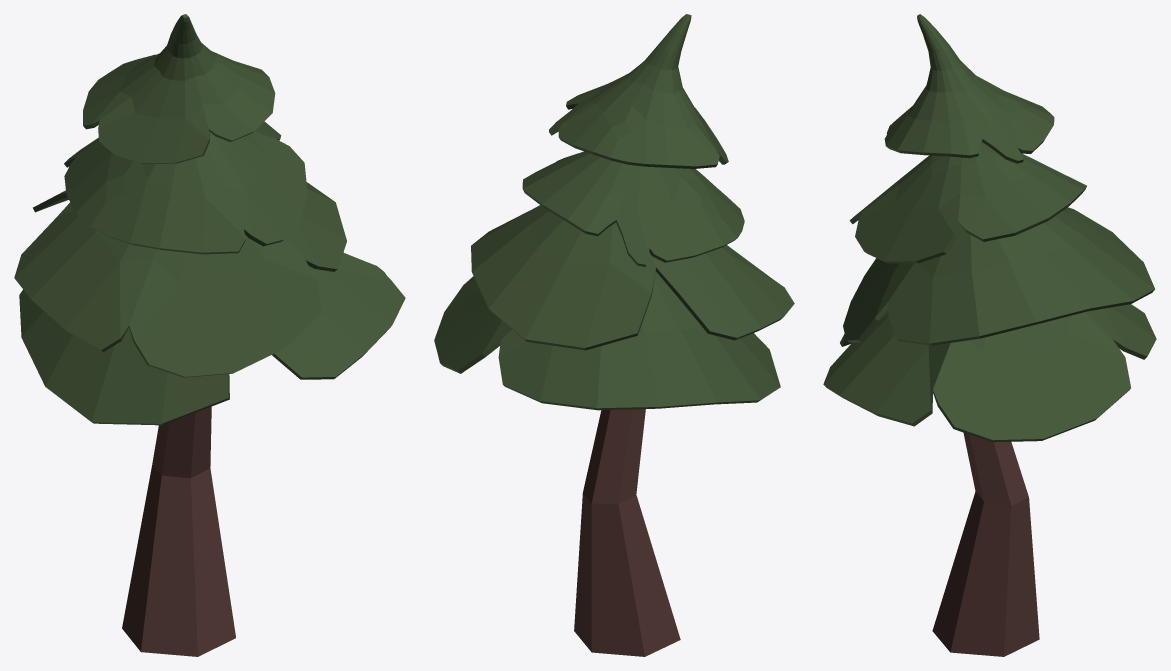
Rendered from pine_5.glb.
The picture shows the model from 3 angles, left to right: view 1: azimuth 30°, elevation 25°; view 2: azimuth 150°, elevation 25°; view 3: azimuth 270°, elevation 25°; orthographic projection. The views are drawn at different scales.
Parts seen in each view (by area): view 1: pine_5; view 2: pine_5; view 3: pine_5.
Part boxes in pixels (x1=…): pine_5: x1=14, y1=14, x2=405, y2=656; pine_5: x1=434, y1=14, x2=794, y2=656; pine_5: x1=823, y1=14, x2=1156, y2=656.
Size of the model in its own units: 9.29 by 17 by 8.46.
